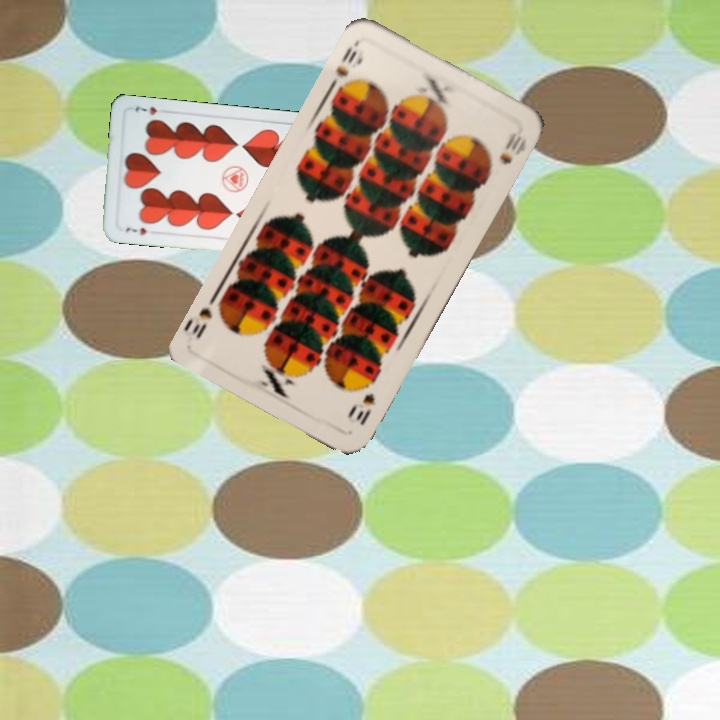H7: (122, 223, 149, 238)
S10: (325, 43, 360, 90), (346, 389, 378, 428)
